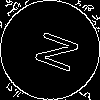N: (25, 25, 80, 75)
